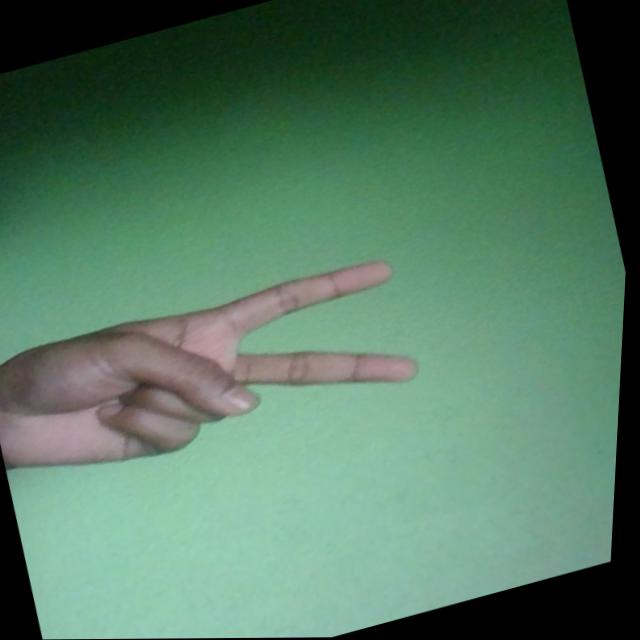Peace: (0, 246, 434, 497)
